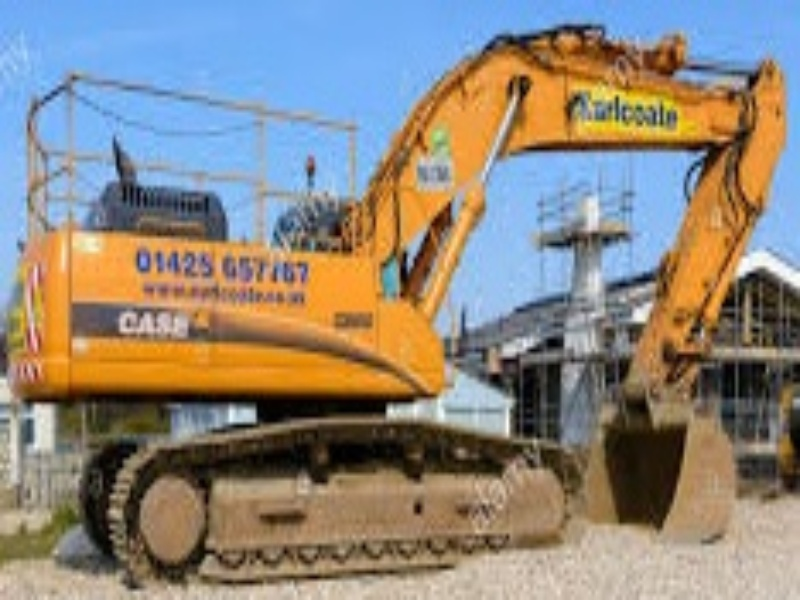wajueji: (16, 44, 625, 581)
